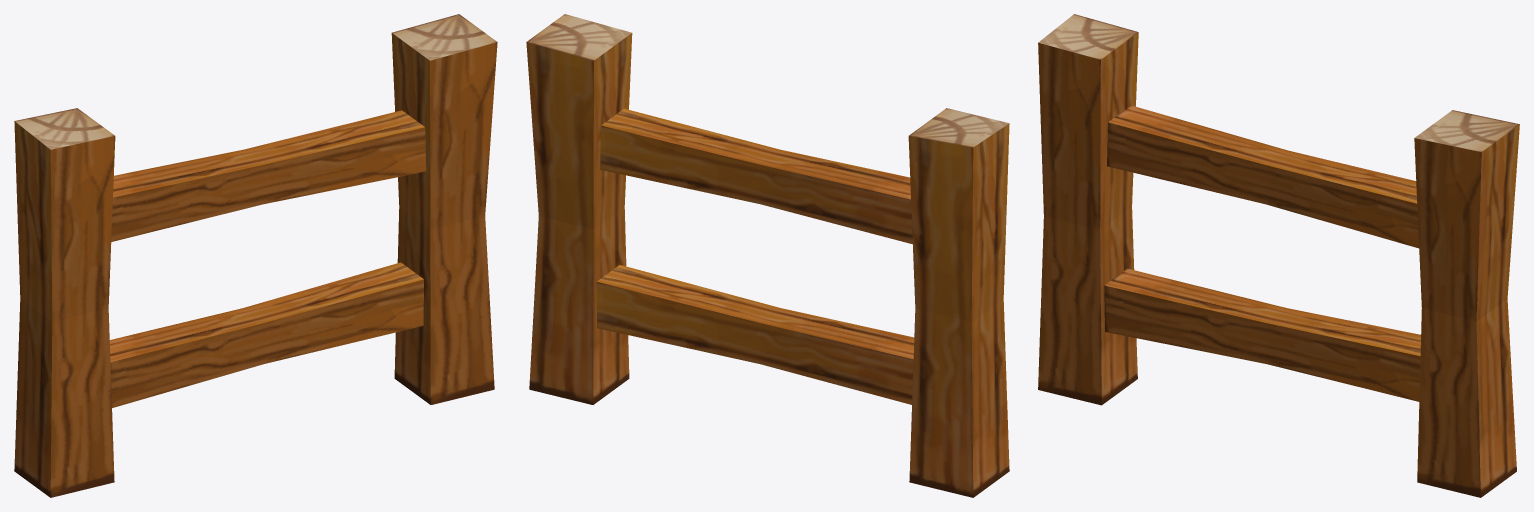
The model's file is fence_02.fbx.
3 views of the same model, side by side, from view 1: azimuth 30°, elevation 25°; view 2: azimuth 150°, elevation 25°; view 3: azimuth 330°, elevation 25° (orthographic).
Parts seen in each view (by area): view 1: Cube.012; view 2: Cube.012; view 3: Cube.012.
Boxes of the visible parts, <box> form: Cube.012: <box>14,14,497,497</box>; Cube.012: <box>526,14,1009,497</box>; Cube.012: <box>1038,14,1519,497</box>.
Bounding box in the file's own units: 117 × 88.08 × 17.47.
